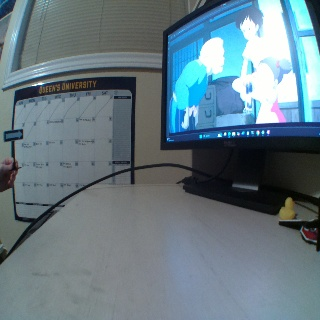sign_oneway_right: (2, 129, 24, 140)
